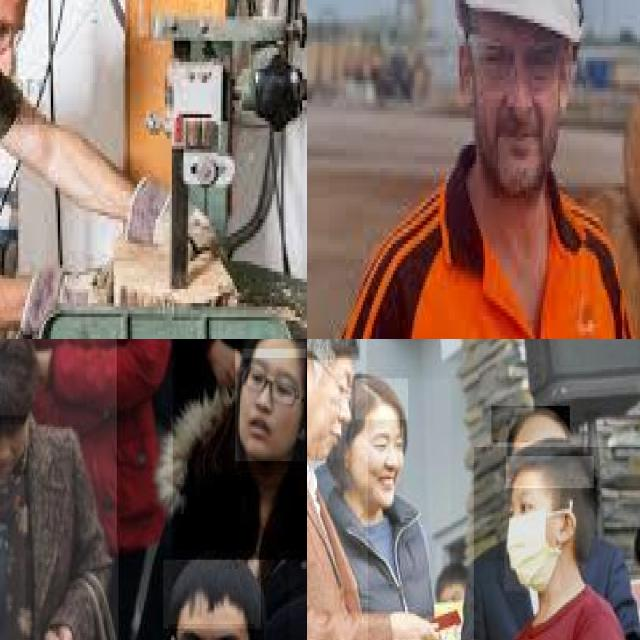No_Ear-Protection: (554, 504, 575, 545)
face_mask: (504, 486, 560, 591)
face_nomask: (235, 349, 306, 461), (307, 364, 354, 460), (352, 424, 405, 507), (0, 415, 28, 477)
glasses: (242, 359, 300, 405), (0, 0, 30, 55), (170, 628, 248, 640)
hand_glove: (80, 258, 237, 331), (125, 184, 216, 250)
hand_noglove: (387, 601, 440, 640)
head_helmet: (455, 0, 590, 42)
head_nohelmet: (163, 560, 261, 628), (506, 436, 595, 490), (0, 339, 41, 419), (355, 378, 410, 422), (307, 339, 362, 362), (243, 339, 307, 358)
person: (311, 0, 640, 339), (0, 0, 222, 339), (0, 339, 118, 640), (473, 447, 640, 640), (338, 378, 453, 640), (173, 339, 307, 562), (105, 546, 291, 640)
